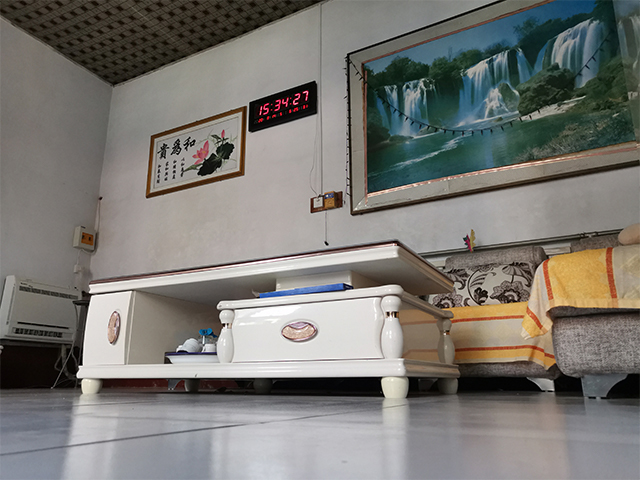sofa: (417, 220, 640, 401)
table: (73, 237, 463, 400)
wire: (49, 343, 79, 390)
